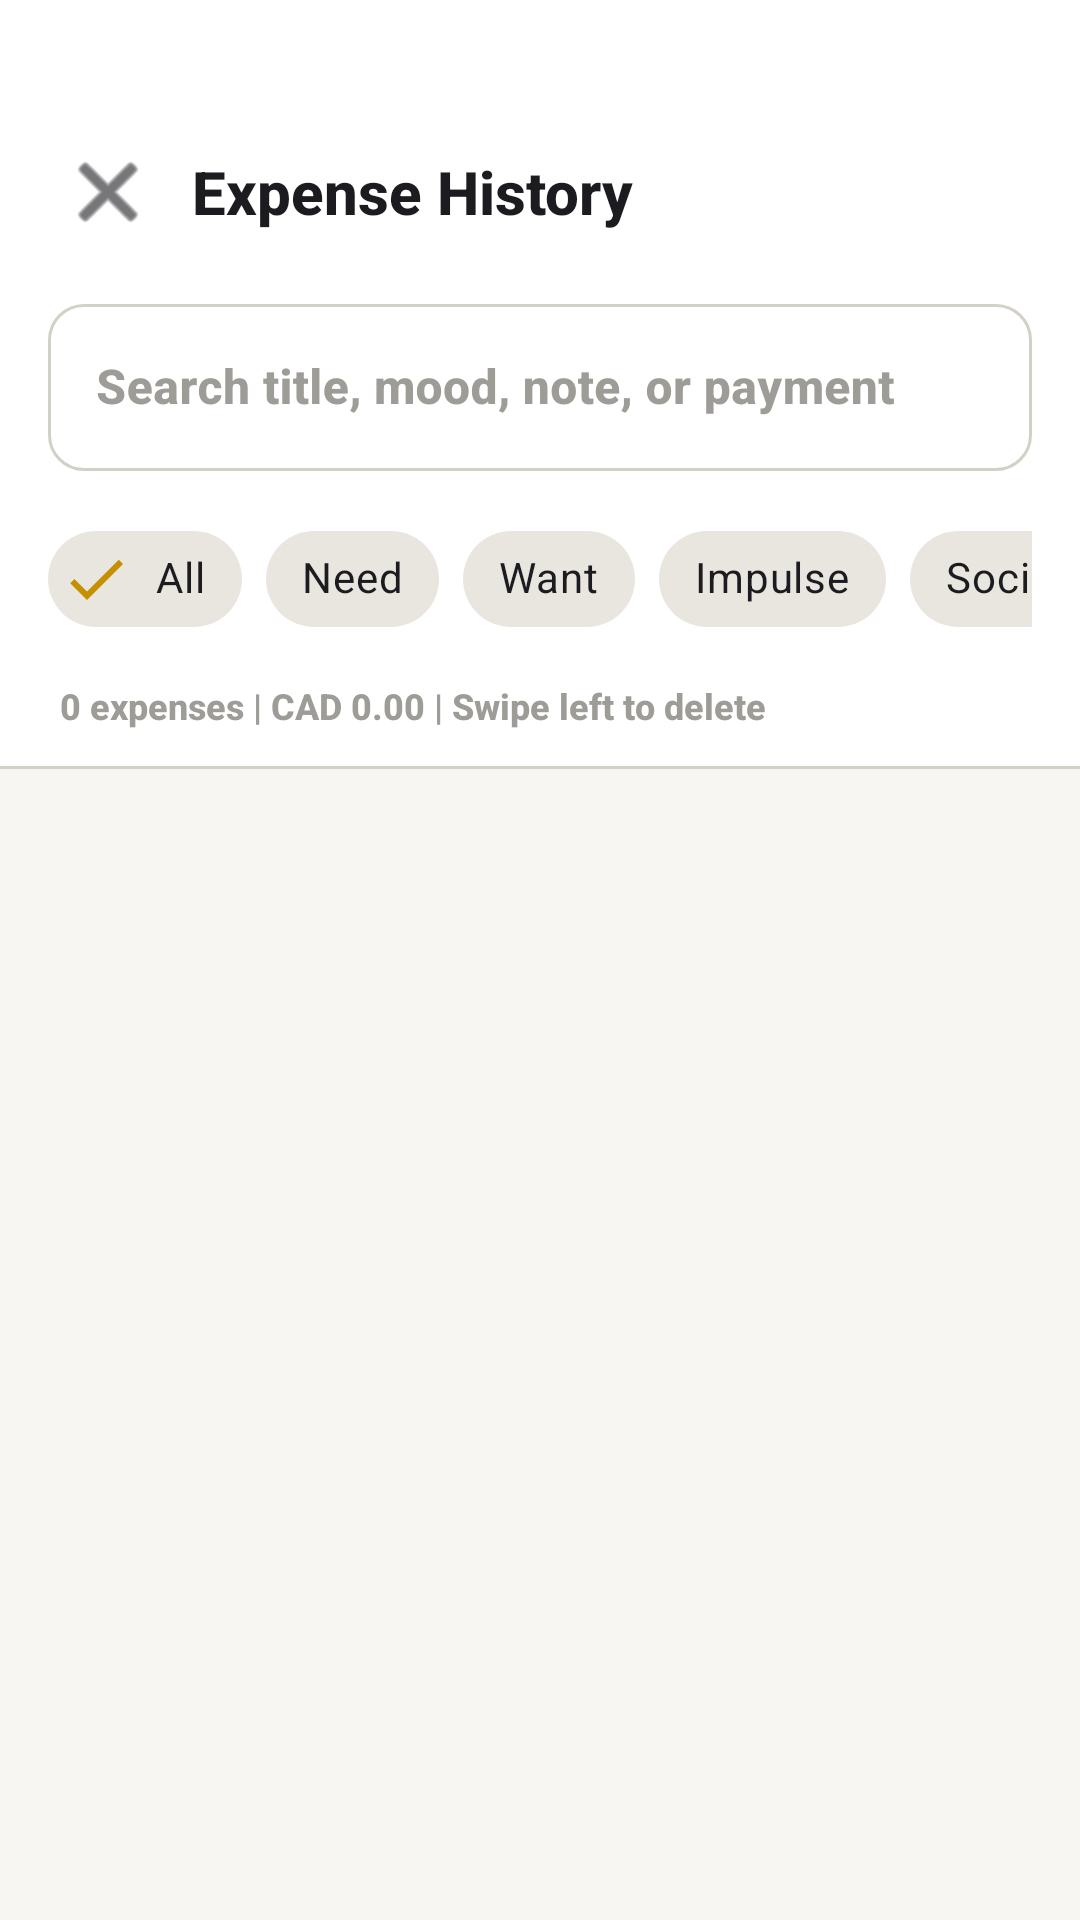

Icons on this 1080x1920 Android screen, each with the point to tap as [x,y]:
close clear cancel: [108,192]
